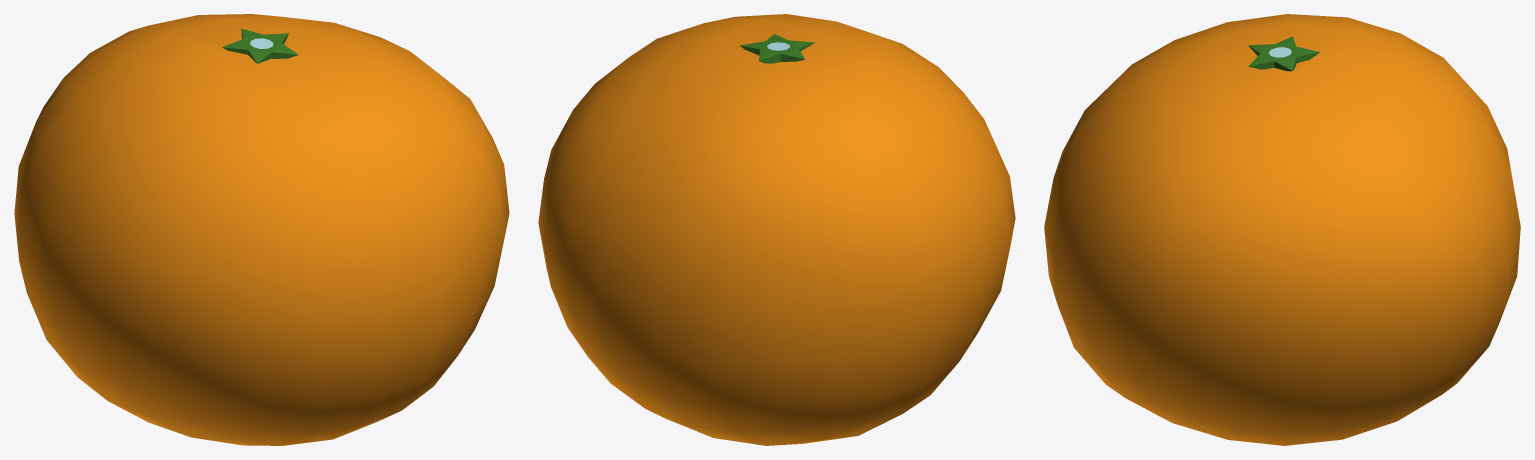
File: Orange.fbx
3 views of the same model, side by side, from view 1: azimuth 30°, elevation 25°; view 2: azimuth 150°, elevation 25°; view 3: azimuth 270°, elevation 25° (orthographic). The views are drawn at different scales.
Parts seen in each view (by area): view 1: obj0, Cylinder; view 2: obj0, Cylinder; view 3: obj0, Cylinder.
Boxes of the visible parts, x1=… form: obj0: x1=14, y1=14, x2=509, y2=445; Cylinder: x1=222, y1=28, x2=298, y2=63; obj0: x1=538, y1=14, x2=1015, y2=445; Cylinder: x1=740, y1=34, x2=814, y2=63; obj0: x1=1044, y1=14, x2=1520, y2=445; Cylinder: x1=1248, y1=36, x2=1319, y2=71.
Size of the model in its own units: 2553 by 2178 by 2540.
1 material, 1 textured.
